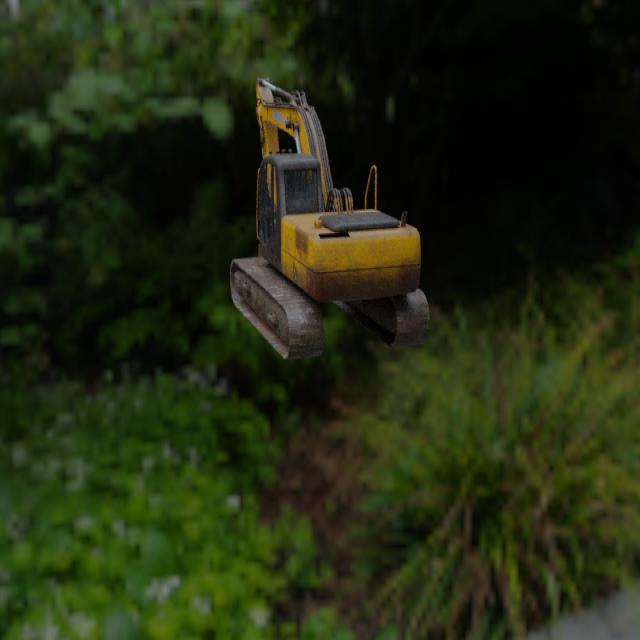excavator: (229, 76, 430, 360)
